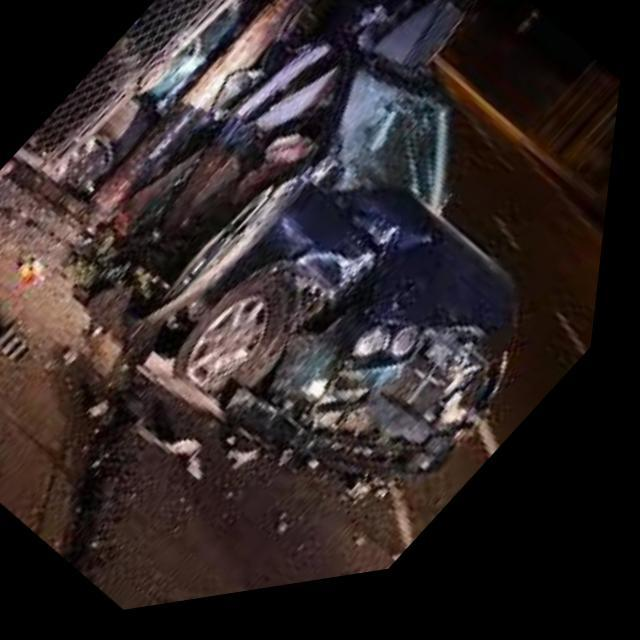crash: (126, 49, 529, 495)
